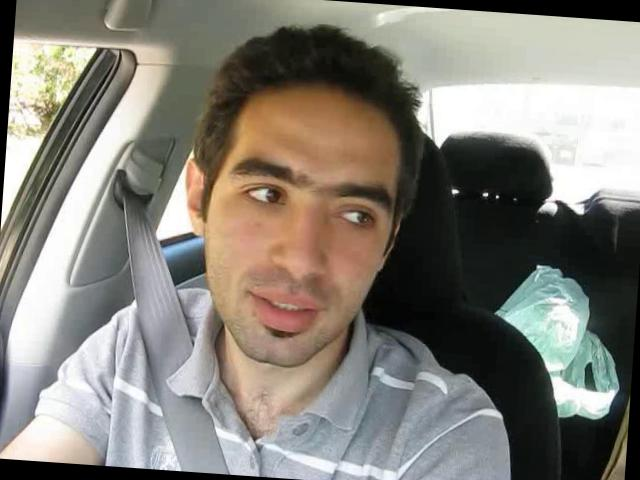eye_open: (233, 178, 292, 214), (332, 200, 382, 234)
face: (192, 136, 400, 376)
